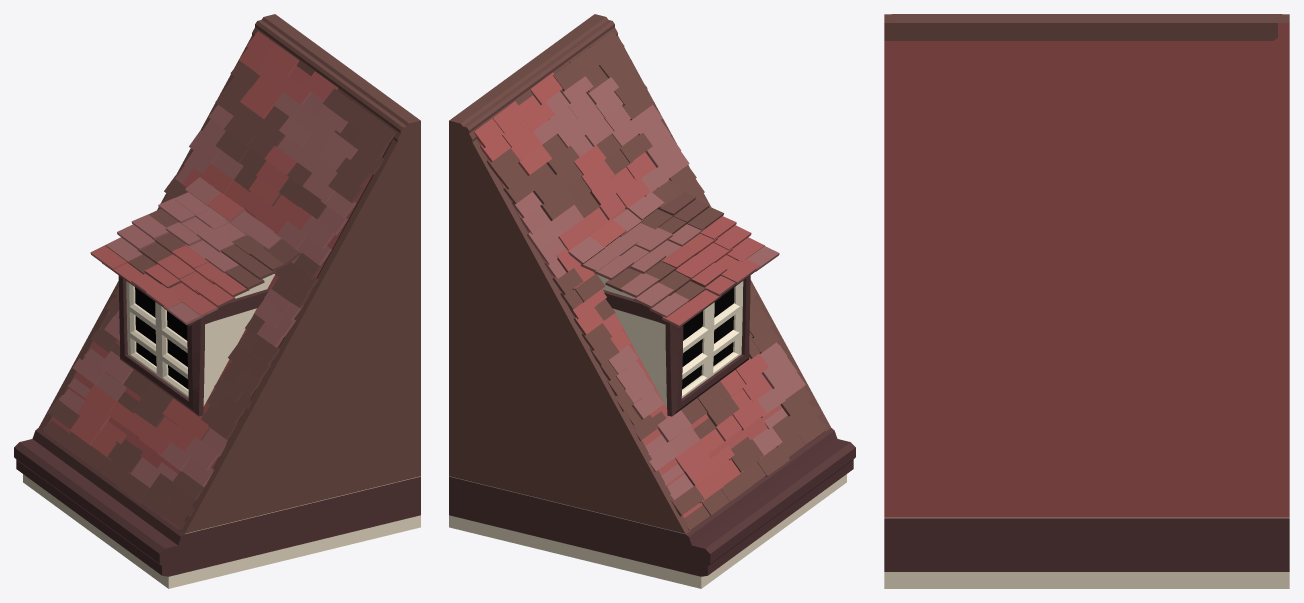
File: Roof_Side_3_S.fbx
The picture shows the model from 3 angles, left to right: view 1: azimuth 30°, elevation 25°; view 2: azimuth 150°, elevation 25°; view 3: azimuth 270°, elevation 25°; orthographic projection. The views are drawn at different scales.
Visible parts, largest first — view 1: Roof_Side_3_S; view 2: Roof_Side_3_S; view 3: Roof_Side_3_S.
Part boxes in pixels (left/top/right/bottom): Roof_Side_3_S: left=14, top=14, right=420, bottom=588; Roof_Side_3_S: left=449, top=14, right=855, bottom=588; Roof_Side_3_S: left=884, top=14, right=1289, bottom=588.
Bounding box in the file's own units: 207 × 200 × 308.
